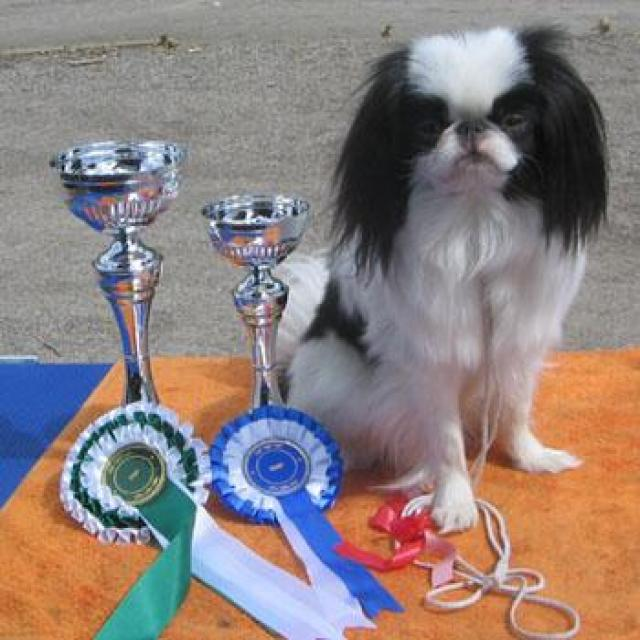husky: (267, 30, 607, 532)
